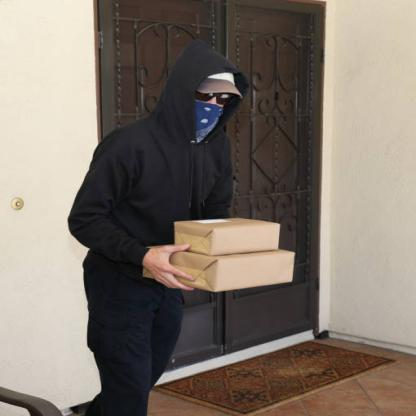package: (142, 243, 308, 296), (169, 215, 289, 258)
